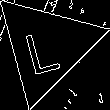L_N: (25, 18, 68, 75)
